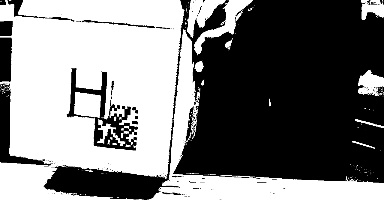H: (66, 64, 112, 119)
